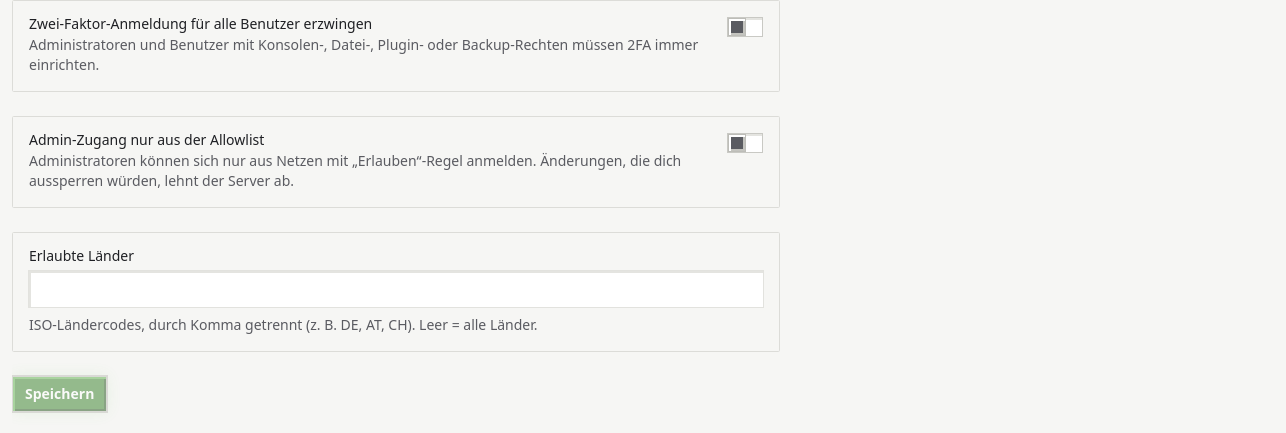
Scenario: SettingsTab › reports a lock-out conflict from the server
Click the switch named "Admin-Zugang nur aus der Allowlist" in the row of "Admin-Zugang nur aus der Allowlist" at point(745, 143), box [727,133,763,153]
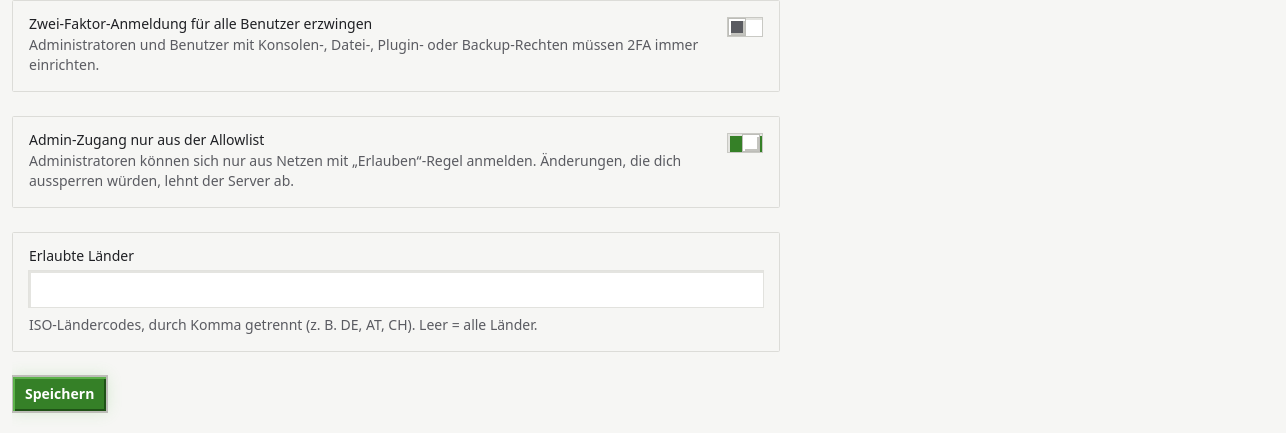
Click the button "Speichern" at point(60, 394), box [12,376,107,412]
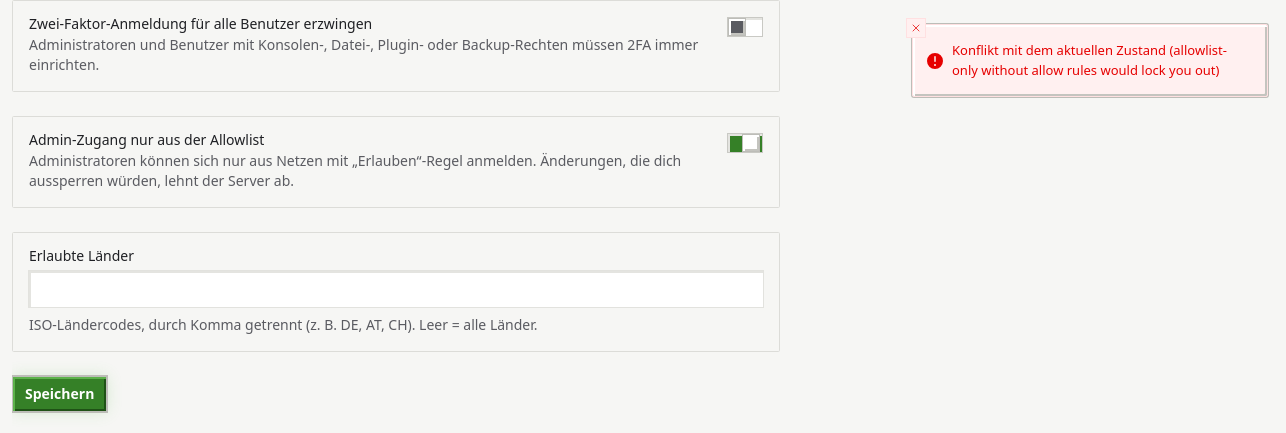
Expected: the text "would lock you out" is shown, [952,41,1227,78]
